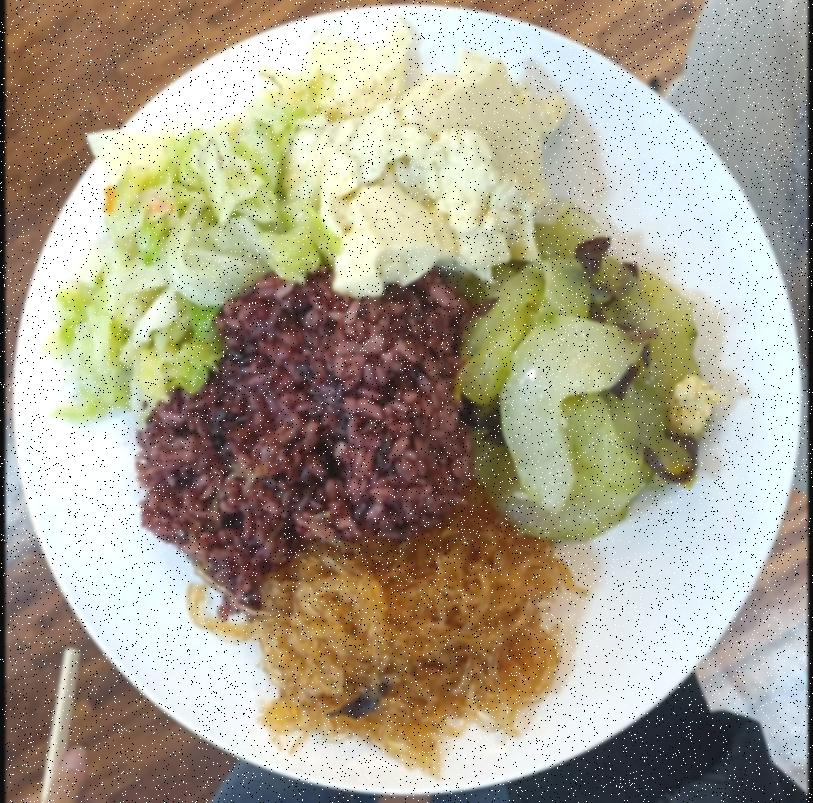plate: (16, 7, 806, 794)
purple rice: (137, 281, 471, 590)
side dish: (44, 68, 315, 425), (457, 217, 715, 544), (287, 20, 563, 302), (240, 529, 568, 745)
